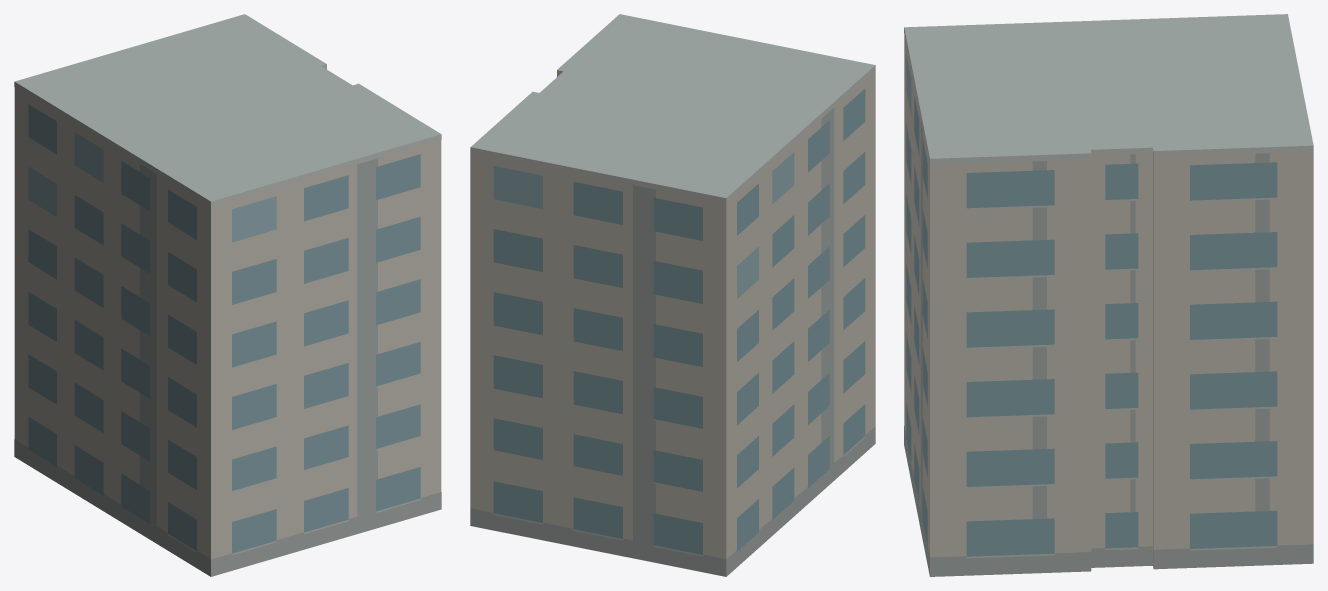
The model's file is survey-upis-33041493.glb.
The picture shows the model from 3 angles, left to right: view 1: azimuth 30°, elevation 25°; view 2: azimuth 150°, elevation 25°; view 3: azimuth 270°, elevation 25°; orthographic projection. The views are drawn at different scales.
Parts seen in each view (by area): view 1: survey-upis-33041493.tmp; view 2: survey-upis-33041493.tmp; view 3: survey-upis-33041493.tmp.
Boxes of the visible parts, box(x1,y1,x2,y2) form: survey-upis-33041493.tmp: box(14, 14, 441, 576); survey-upis-33041493.tmp: box(470, 14, 875, 576); survey-upis-33041493.tmp: box(904, 14, 1313, 576).
Size of the model in its own units: 12.41 by 16.7 by 14.83.
